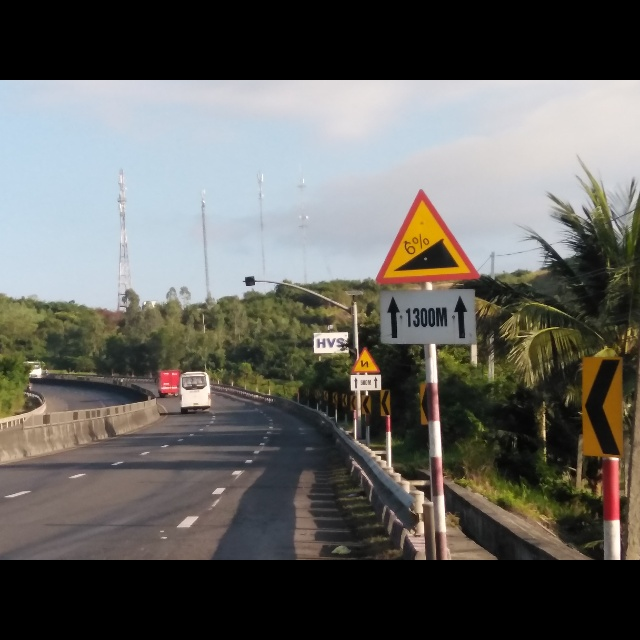Dốc lên nguy hiểm: (376, 190, 482, 288)
Ngoặt nguy hiểm liên tiếp bên phải: (350, 346, 383, 375)
